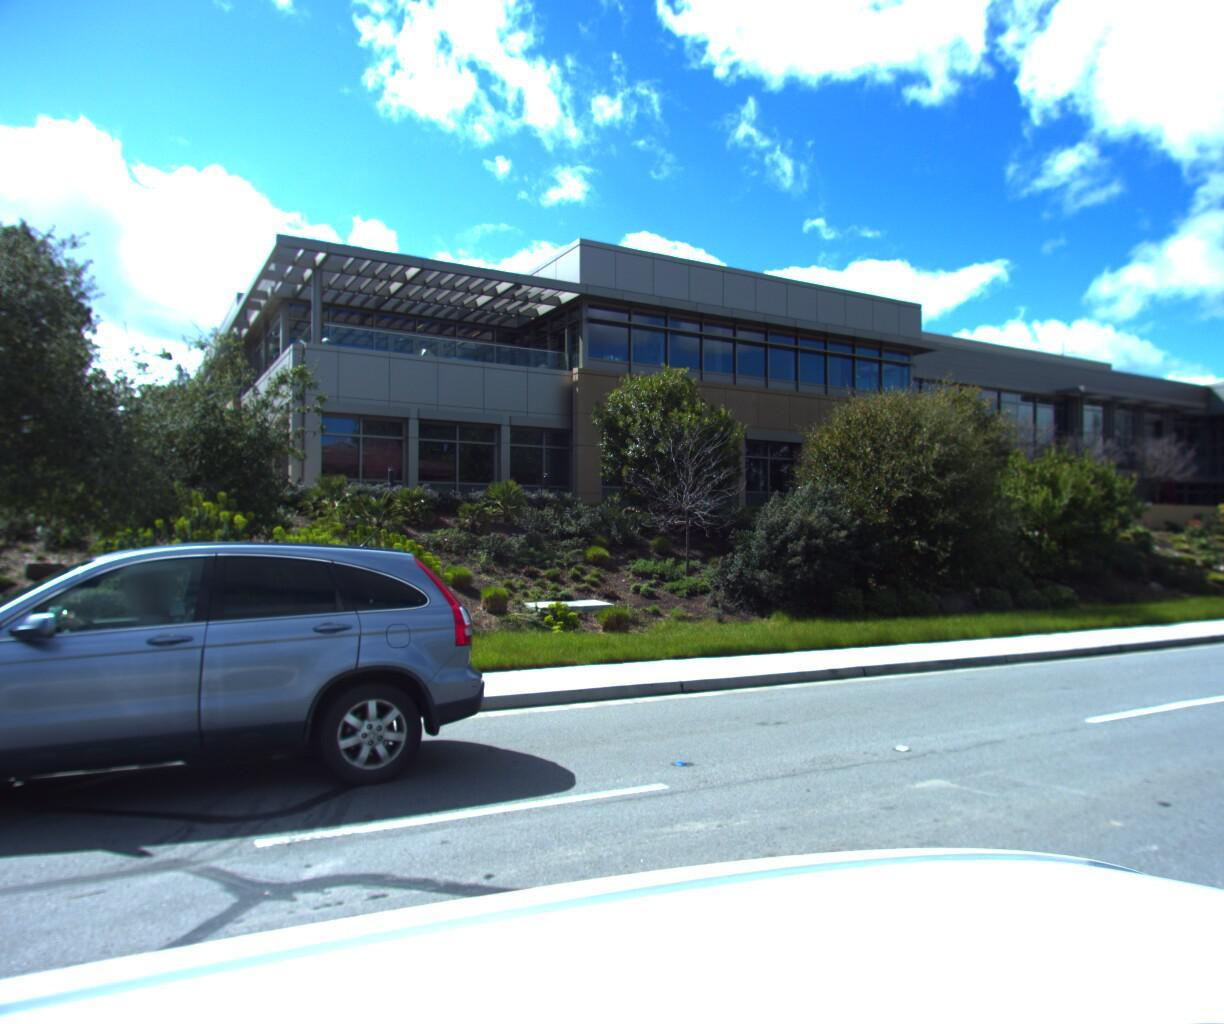car: (0, 530, 508, 907)
